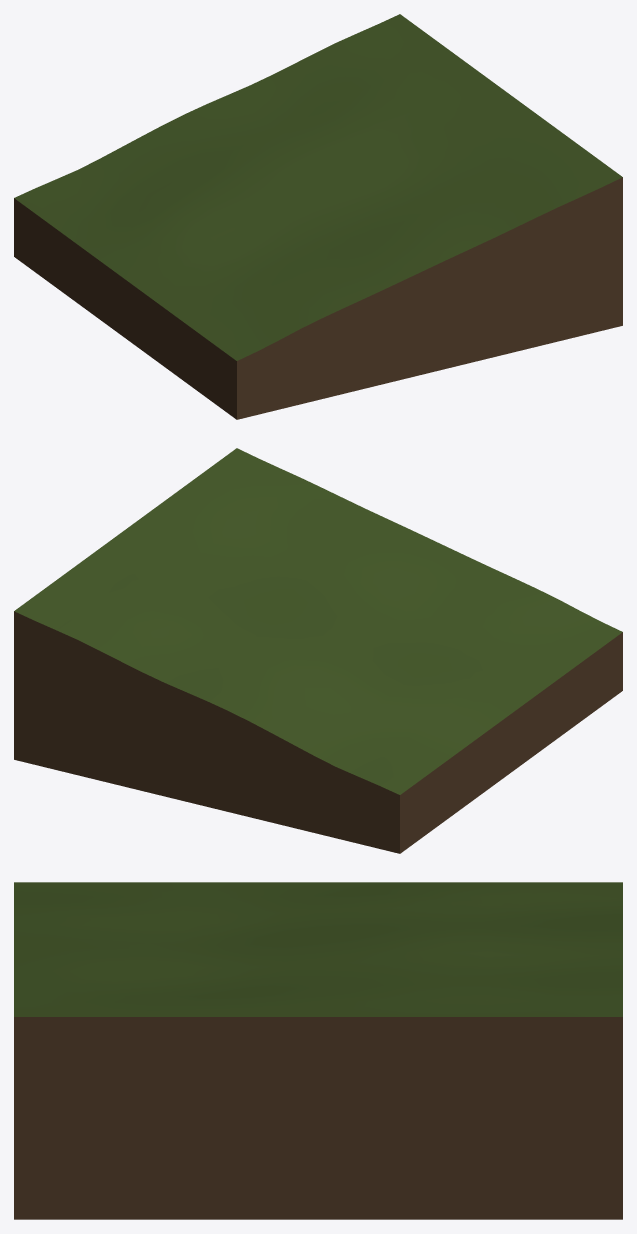
3 renders of one model, top to bottom at view 1: azimuth 30°, elevation 25°; view 2: azimuth 150°, elevation 25°; view 3: azimuth 270°, elevation 25°, orthographic. The views are drawn at different scales.
Parts seen in each view (by area): view 1: b1go; view 2: b1go; view 3: b1go.
Boxes of the visible parts, x1,y1,x2,y2 form: b1go: [14, 14, 622, 419]; b1go: [14, 448, 622, 853]; b1go: [14, 882, 622, 1219].
Bounding box in the file's own units: 9 × 3.31 × 9.
